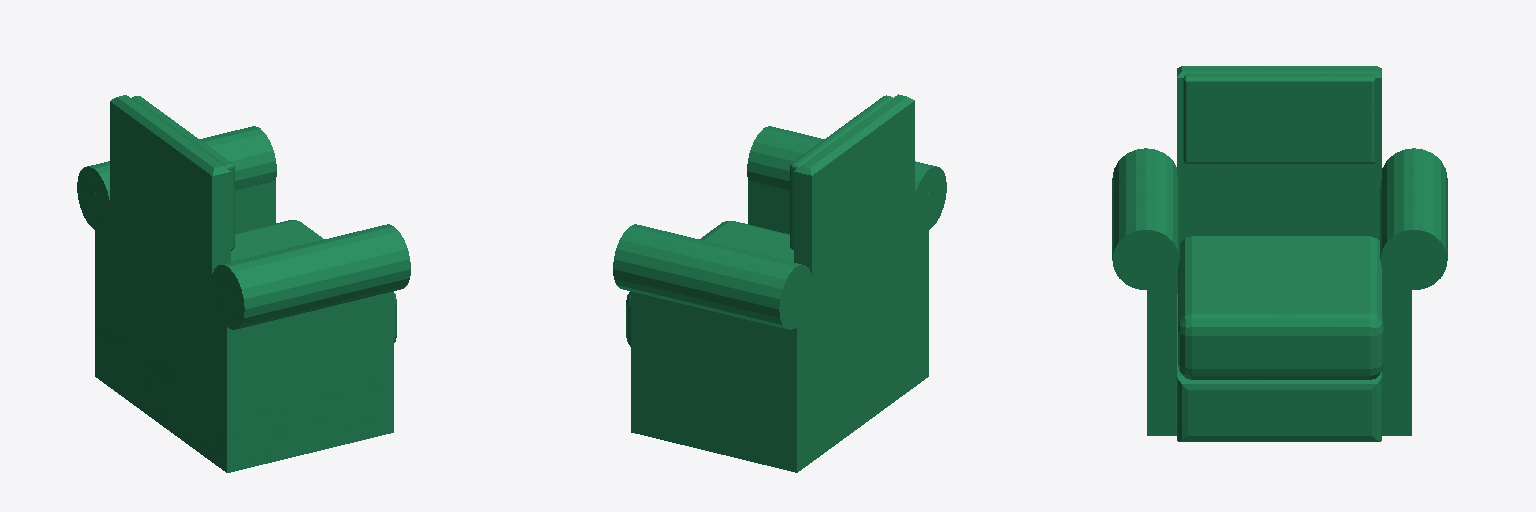
3 views of the same model, side by side, from view 1: azimuth 30°, elevation 25°; view 2: azimuth 150°, elevation 25°; view 3: azimuth 270°, elevation 25° (orthographic).
Parts seen in each view (by area): view 1: pasted__pCube1 group, pCylinder1, pasted__pCylinder1 group1, pCube1, pCube2; view 2: pasted__pCube1 group, pasted__pCylinder1 group1, pCylinder1, pCube1, pCube2; view 3: pasted__pCube1 group, pCube1, pCube2, pasted__pCylinder1 group1, pCylinder1.
Part boxes in pixels (x1,y1,x2,y2): pasted__pCube1 group: (95, 95, 393, 472); pCylinder1: (211, 224, 410, 329); pasted__pCylinder1 group1: (77, 126, 276, 231); pCube1: (231, 220, 396, 342); pCube2: (131, 96, 234, 250); pasted__pCube1 group: (631, 94, 928, 472); pasted__pCylinder1 group1: (613, 224, 812, 329); pCylinder1: (747, 126, 946, 231); pCube1: (626, 221, 793, 346); pCube2: (790, 95, 892, 249); pasted__pCube1 group: (1147, 66, 1411, 441); pCube1: (1178, 236, 1383, 379); pCube2: (1183, 74, 1375, 163); pasted__pCylinder1 group1: (1380, 148, 1447, 289); pCylinder1: (1112, 148, 1179, 289).
Bounding box in the file's own units: 4.57 × 6.69 × 6.98.
Materials: 1 (1 with a texture image).